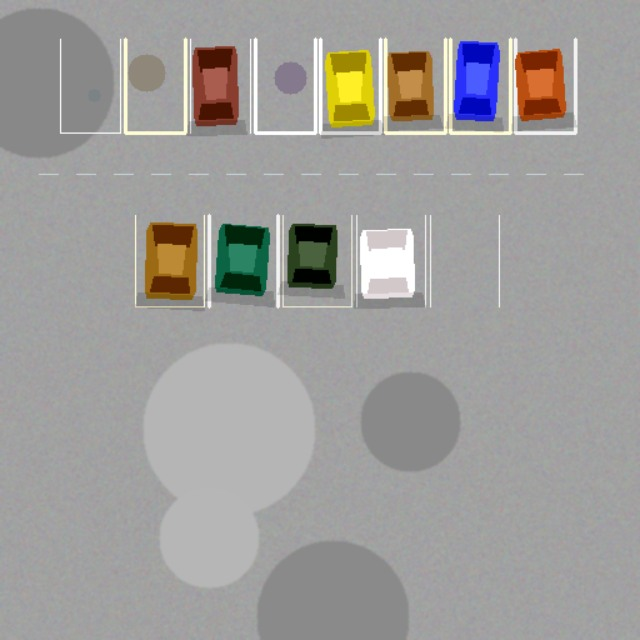space-empty: (430, 215, 499, 306), (60, 39, 120, 132), (125, 39, 185, 132), (255, 39, 315, 132)
space-occupied: (135, 215, 204, 306), (209, 215, 278, 306), (282, 215, 351, 306), (356, 215, 425, 306), (190, 39, 250, 132), (320, 39, 380, 132), (385, 39, 445, 132), (450, 39, 510, 132), (515, 39, 575, 132)
